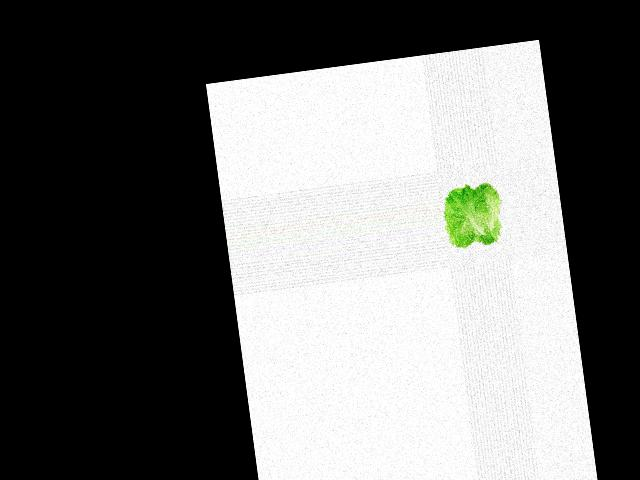lettuce: (438, 175, 508, 254)
